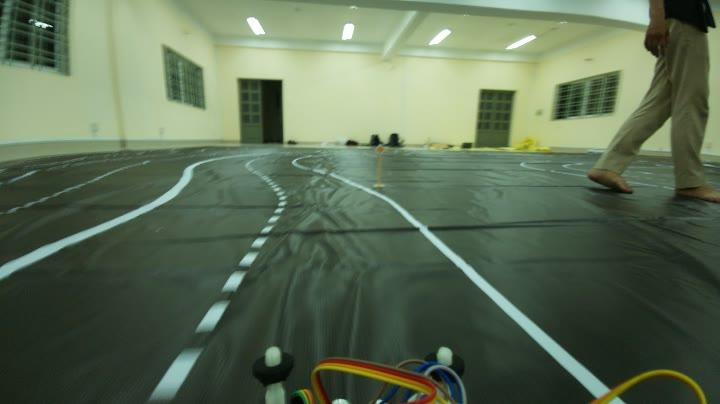priority: (371, 142, 385, 156)
